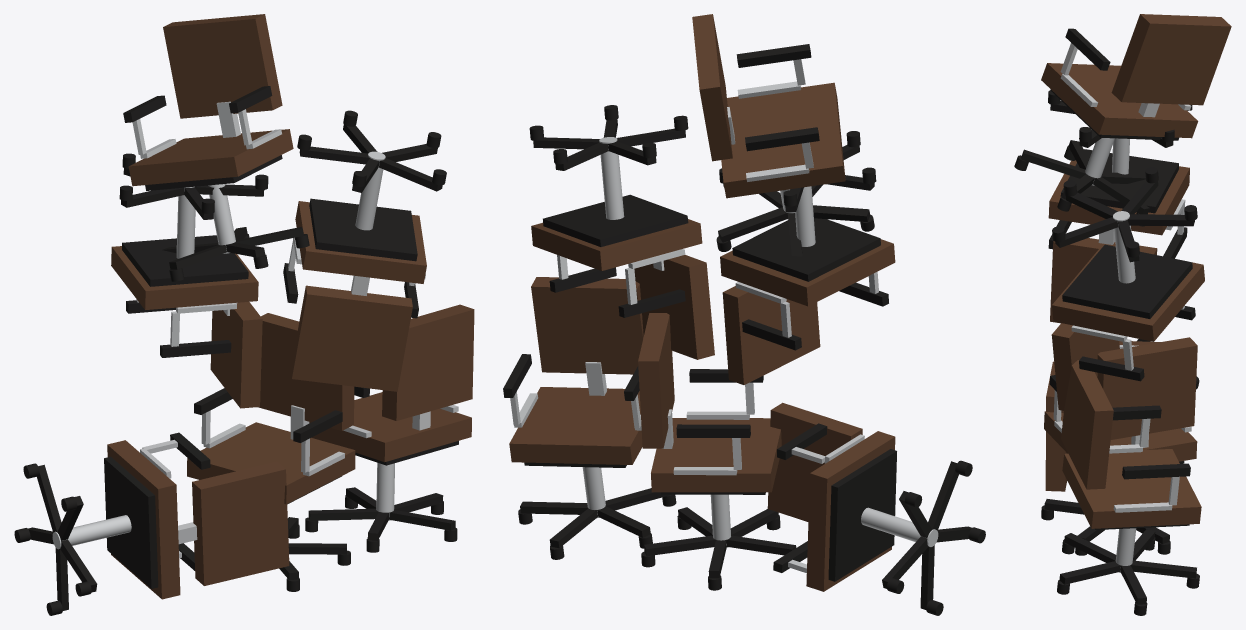
The model's file is SM_80s_ChairPile_C.glb.
3 views of the same model, side by side, from view 1: azimuth 30°, elevation 25°; view 2: azimuth 150°, elevation 25°; view 3: azimuth 270°, elevation 25° (orthographic). The views are drawn at different scales.
Parts seen in each view (by area): view 1: SM_80s_ChairPile_C; view 2: SM_80s_ChairPile_C; view 3: SM_80s_ChairPile_C.
Boxes of the visible parts, bbox=[...] form: SM_80s_ChairPile_C: bbox=[14, 14, 474, 615]; SM_80s_ChairPile_C: bbox=[503, 14, 985, 615]; SM_80s_ChairPile_C: bbox=[1014, 14, 1231, 615].
Size of the model in its own units: 2.48 by 3.07 by 1.18.
